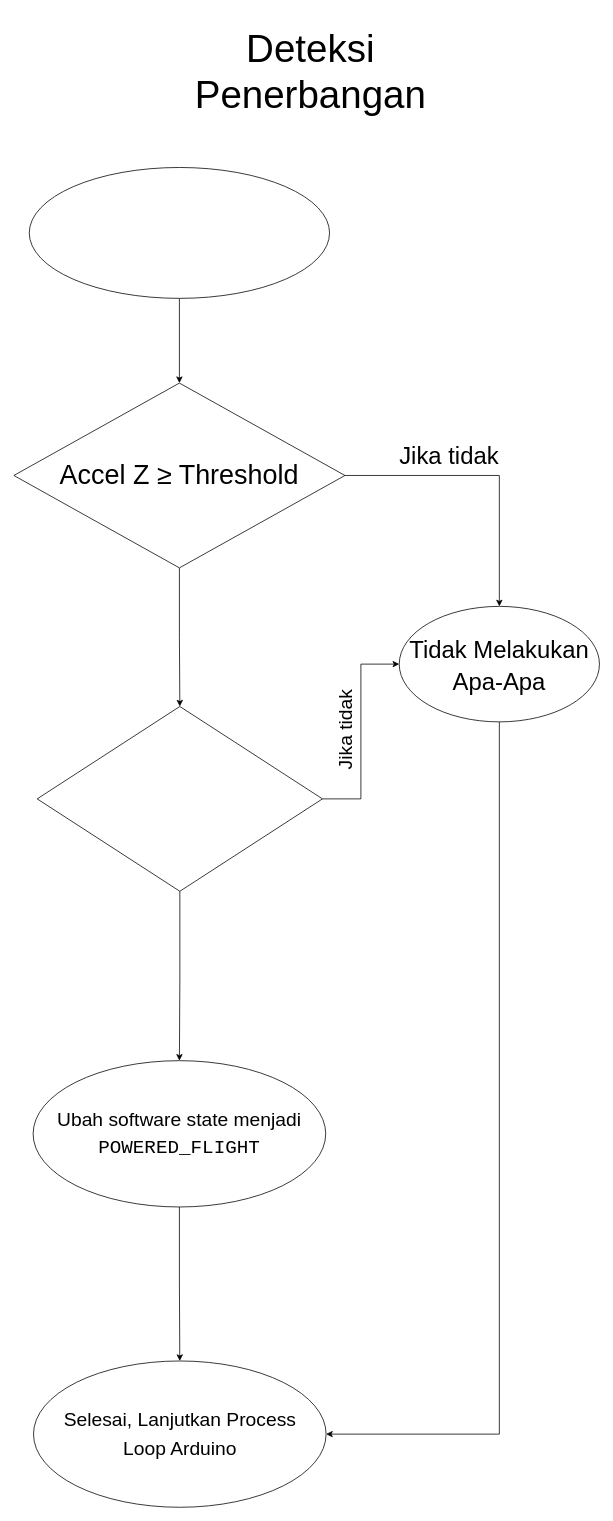
Image size: 613x1521. Some labels were removed from this diagram. The box of each missing label's shape, as (x1, y1, x2, y2) in pixels:
Count ≥ 0.1 detik: (36, 706, 322, 891)
GROUND_IDLE: (28, 167, 330, 298)
